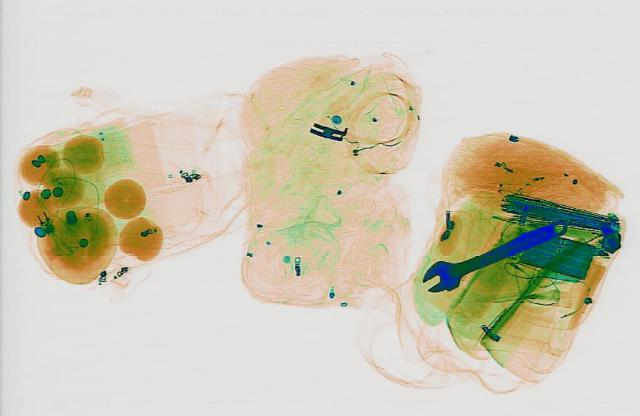Wrench: (406, 208, 580, 295)
